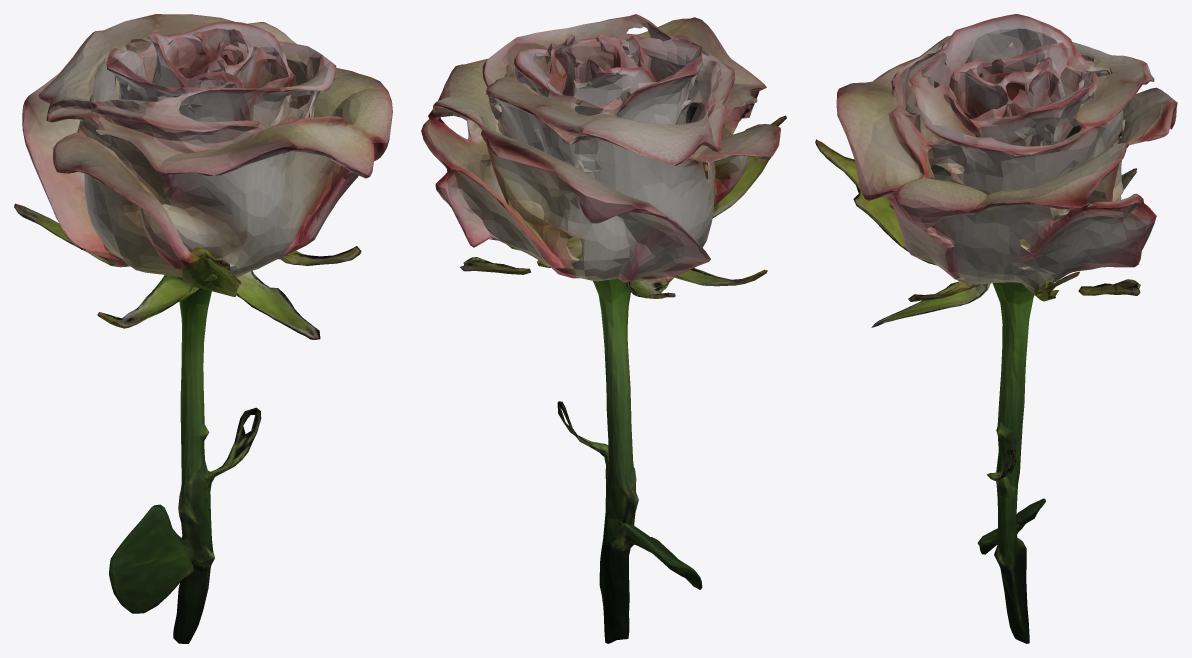
The picture shows the model from 3 angles, left to right: view 1: azimuth 30°, elevation 25°; view 2: azimuth 150°, elevation 25°; view 3: azimuth 270°, elevation 25°; orthographic projection.
Visible parts, largest first — view 1: world; view 2: world; view 3: world.
Boxes of the visible parts, x1,y1,x2,y2 form: world: (14,14,392,643); world: (421,14,786,643); world: (815,14,1177,643).
Bounding box in the file's own units: 0.525 × 0.9381 × 0.5176.
Materials: 1 (1 with a texture image).
